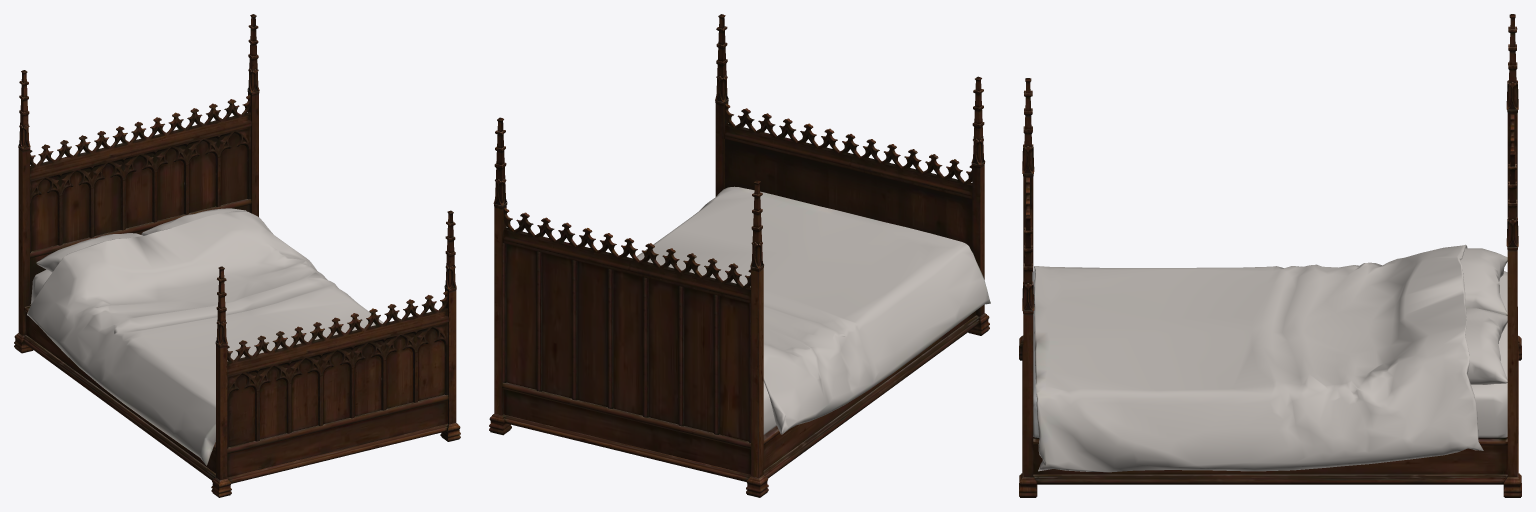
Rendered from GothicBed_01.glb.
3 renders of one model, left to right at view 1: azimuth 30°, elevation 25°; view 2: azimuth 150°, elevation 25°; view 3: azimuth 270°, elevation 25°, orthographic. The views are drawn at different scales.
Visible parts, largest first — view 1: GothicBed_01; view 2: GothicBed_01; view 3: GothicBed_01.
Boxes of the visible parts, left/top/right/bottom form: GothicBed_01: left=14, top=14, right=460, bottom=497; GothicBed_01: left=489, top=14, right=990, bottom=497; GothicBed_01: left=1019, top=14, right=1521, bottom=497.
Bounding box in the file's own units: 1.49 × 1.53 × 2.04.
Materials: 1 (1 with a texture image).
